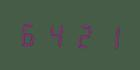four: (43, 19, 67, 49)
one: (93, 20, 117, 51)
six: (18, 18, 42, 49)
two: (68, 19, 92, 50)
